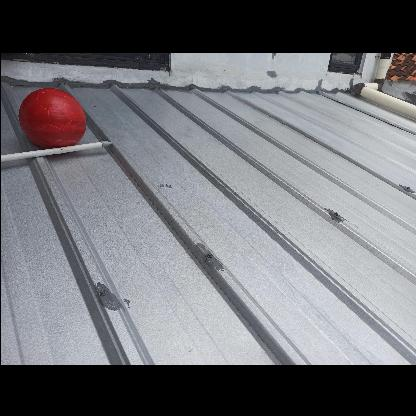red_ball: (17, 84, 85, 152)
